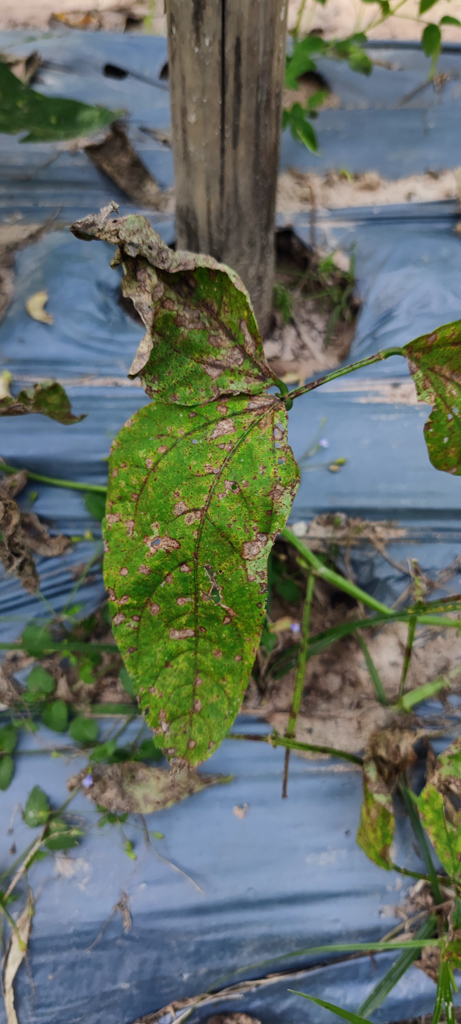Rust: (63, 194, 309, 802), (331, 718, 461, 898), (392, 305, 460, 481)
